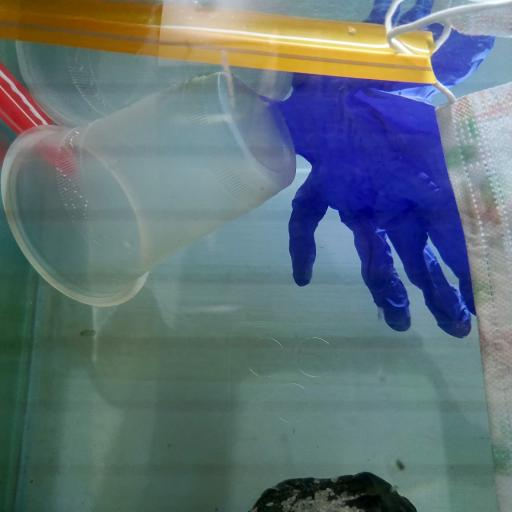glove: (273, 0, 497, 339)
mask: (388, 0, 512, 512)
plastic_cup: (2, 69, 298, 306)
plastic_straw: (2, 10, 436, 85), (0, 67, 79, 178)
